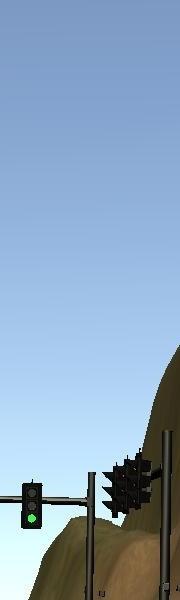Green: (20, 480, 42, 530)
